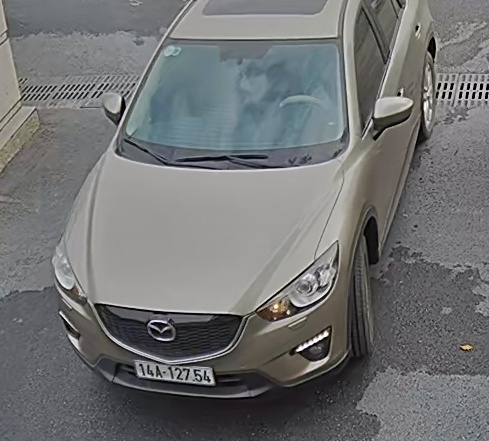vehicle plate: (130, 355, 224, 392)
